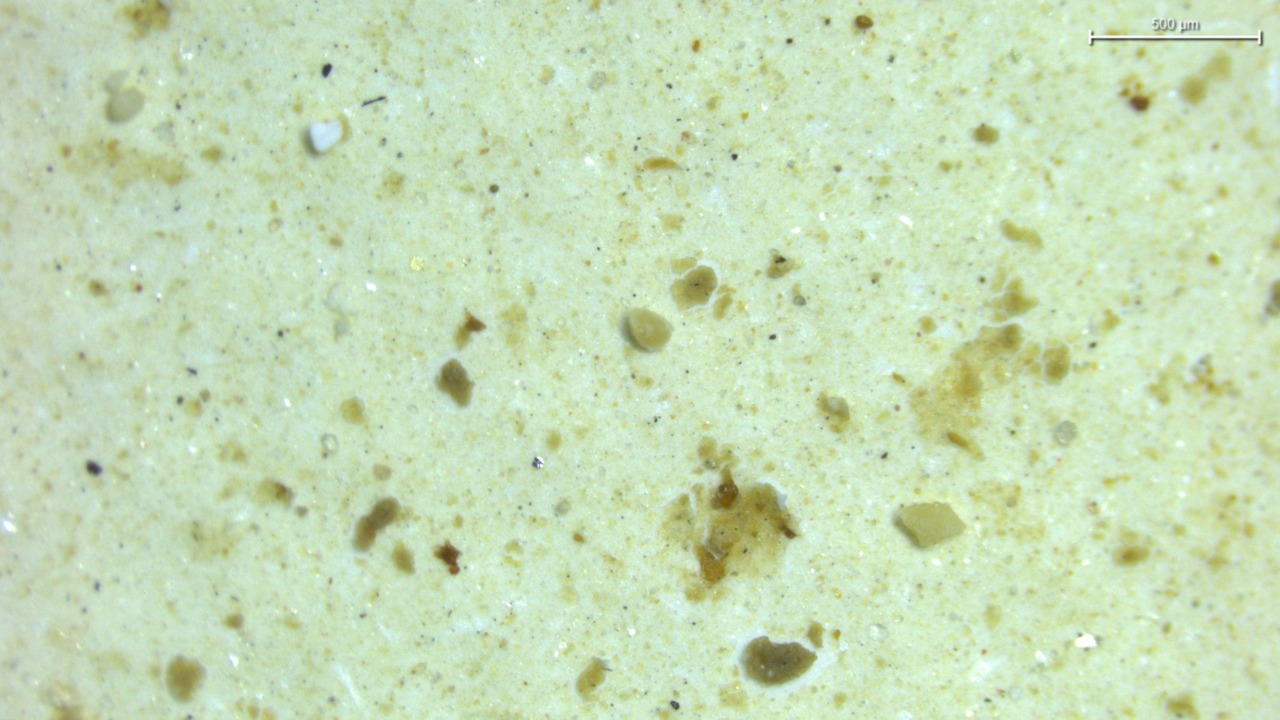microplastic_fragment: (895, 502, 966, 548), (625, 308, 672, 351), (308, 119, 343, 153)
